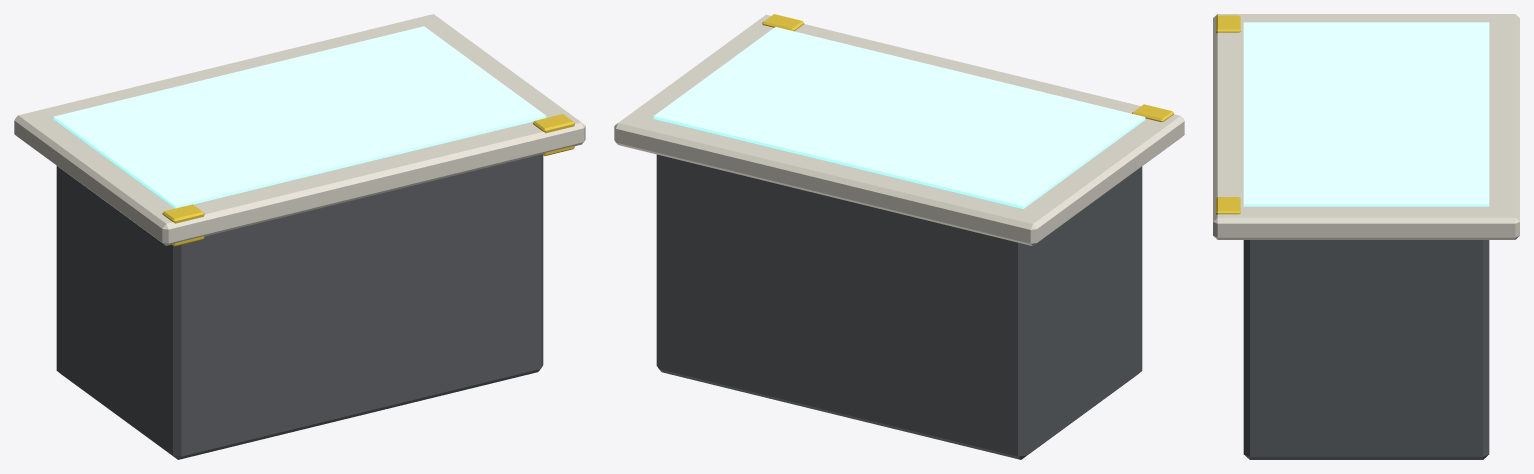
File: nav_table.glb
3 views of the same model, side by side, from view 1: azimuth 30°, elevation 25°; view 2: azimuth 150°, elevation 25°; view 3: azimuth 270°, elevation 25° (orthographic).
Parts seen in each view (by area): view 1: nav_table; view 2: nav_table; view 3: nav_table.
Part boxes in pixels (left/top/right/bottom): nav_table: left=14, top=14, right=585, bottom=459; nav_table: left=614, top=14, right=1184, bottom=459; nav_table: left=1213, top=14, right=1519, bottom=459.
Bounding box in the file's own units: 1.6 × 0.93 × 1.
